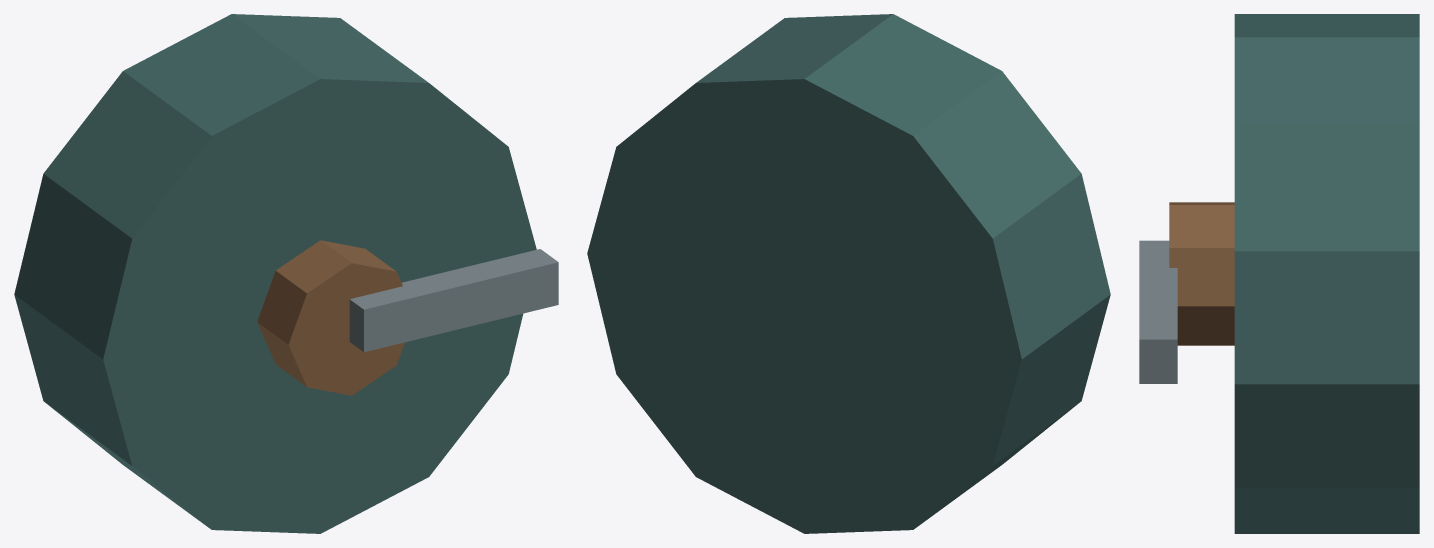
The model's file is L-48_chalk_reel.glb.
3 views of the same model, side by side, from view 1: azimuth 30°, elevation 25°; view 2: azimuth 150°, elevation 25°; view 3: azimuth 270°, elevation 25° (orthographic). The views are drawn at different scales.
Visible parts, largest first — view 1: L-48_chalk_reel; view 2: L-48_chalk_reel; view 3: L-48_chalk_reel.
Part boxes in pixels (box(x1,y1,x2,y2)): L-48_chalk_reel: box(14, 14, 558, 533); L-48_chalk_reel: box(587, 14, 1110, 533); L-48_chalk_reel: box(1139, 14, 1419, 533).
Bounding box in the file's own units: 0.096 × 0.096 × 0.0515.
